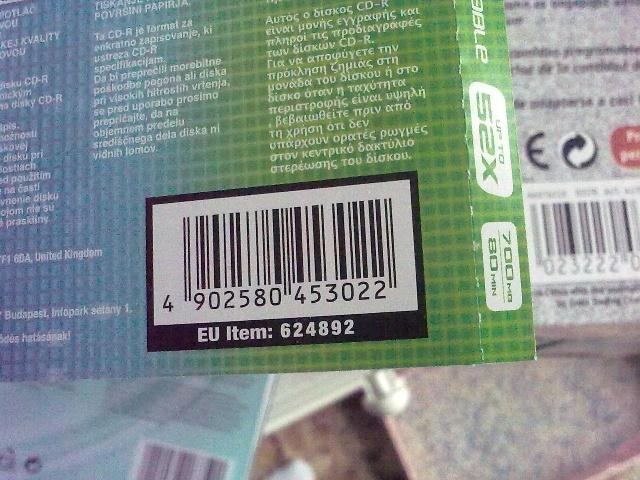Barcode: (154, 189, 398, 321)
